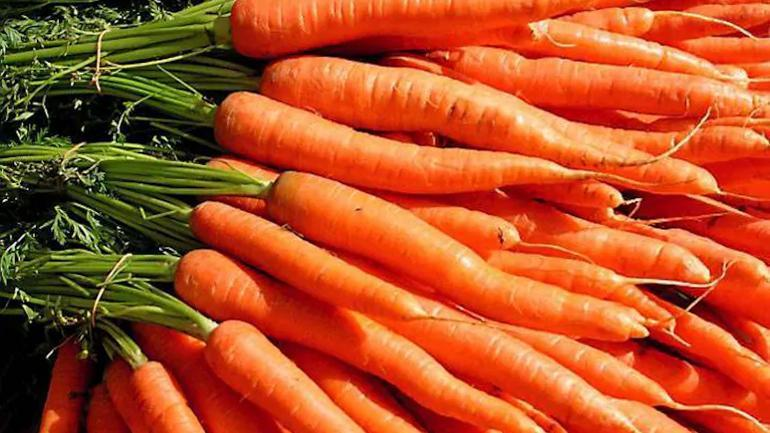carrot: (218, 7, 770, 433)
